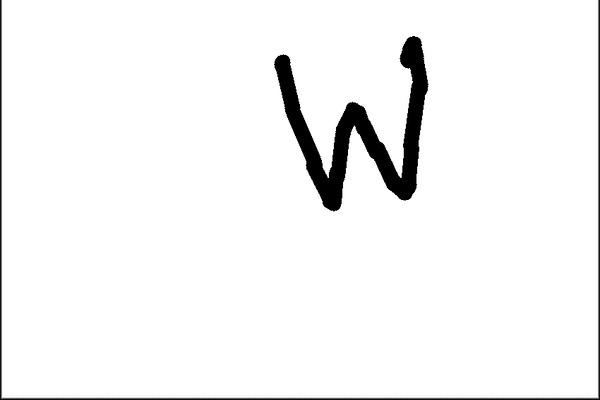w: (258, 27, 446, 221)
